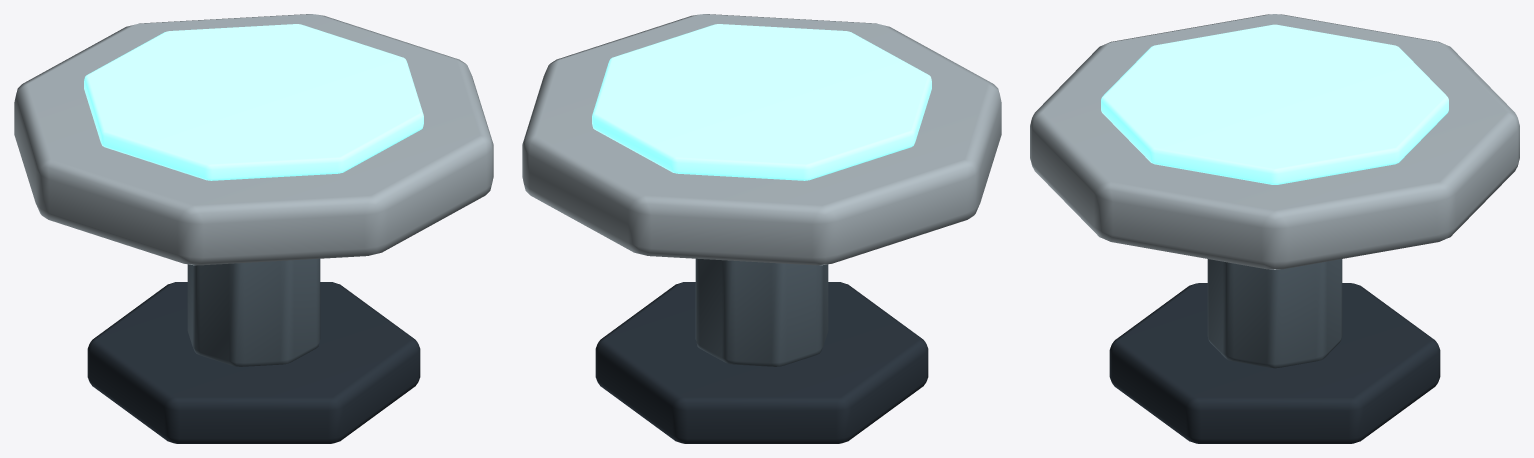
Rendered from enemy_role_bulwark.fbx.
3 renders of one model, left to right at view 1: azimuth 30°, elevation 25°; view 2: azimuth 150°, elevation 25°; view 3: azimuth 270°, elevation 25°, orthographic.
Visible parts, largest first — view 1: enemy_role_bulwark_Geometry; view 2: enemy_role_bulwark_Geometry; view 3: enemy_role_bulwark_Geometry.
Part boxes in pixels (<box>): enemy_role_bulwark_Geometry: <box>14,14,493,443</box>; enemy_role_bulwark_Geometry: <box>522,14,1001,443</box>; enemy_role_bulwark_Geometry: <box>1030,14,1519,443</box>.
Bounding box in the file's own units: 0.671 × 0.4385 × 0.671.
